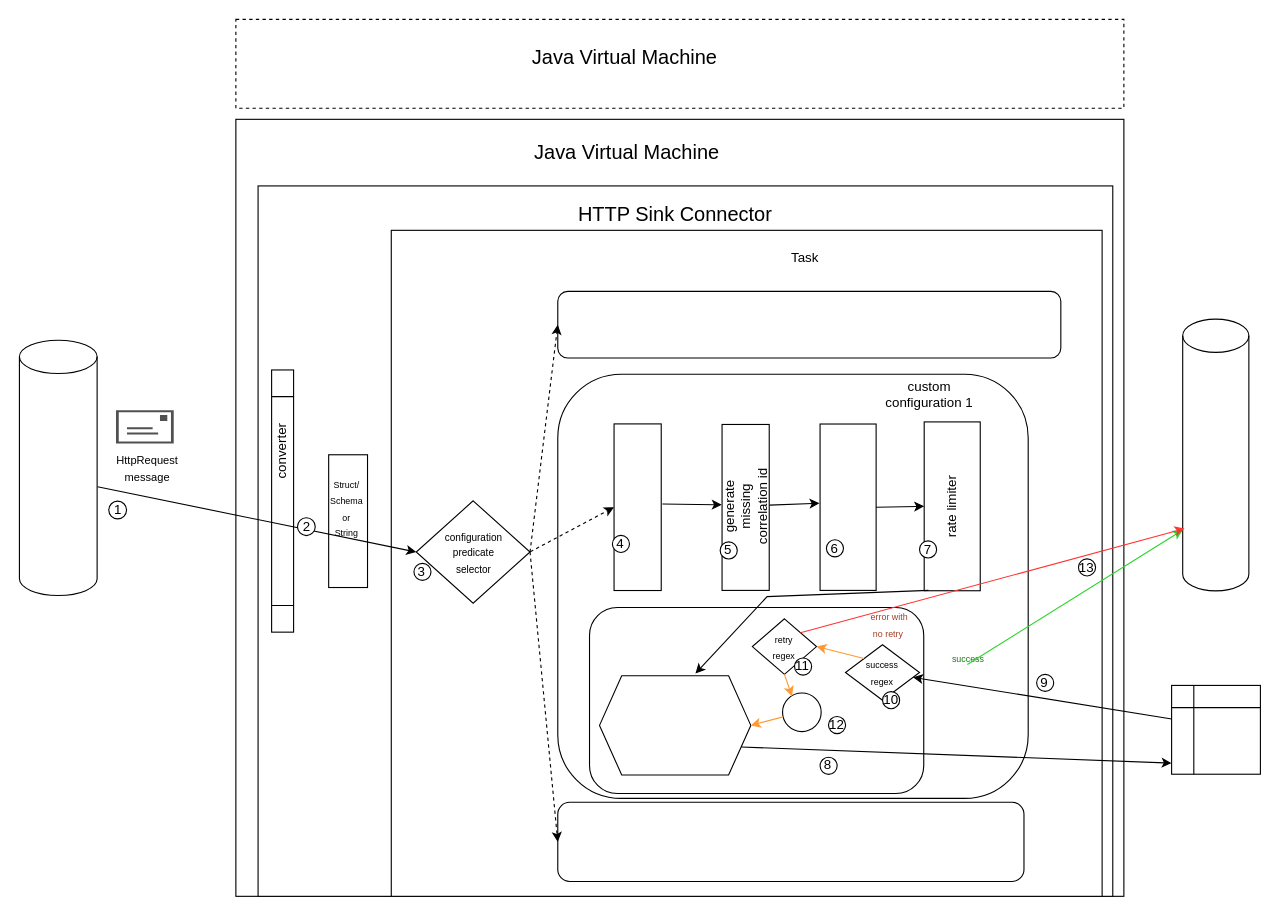
Image size: 1280x916. Some labels were removed from this diagram. The shapes that lost their labels are listed below. From the top down, each one's centre as x and y in pixels, then its label:
At (809,324): "default configuration".
At (57,467): "Kafka Topic Http-Requests".
At (1215,454): "In memory queue".
At (637,507): "add static headers".
At (847,506): "generate missing request id".
At (674,725): "HTTP Client".
At (801,712): "retry policy".
At (1215,729): "web site".
At (790,841): "custom configuration 2".
